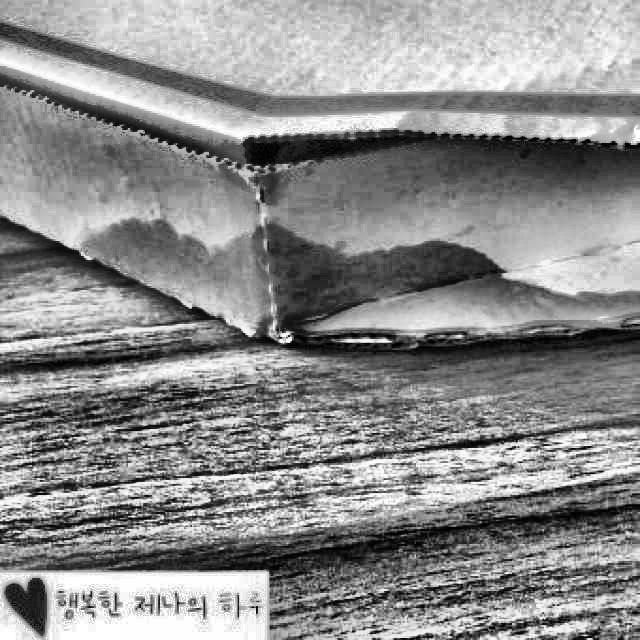box: (0, 0, 639, 365)
wet: (35, 203, 640, 356)
